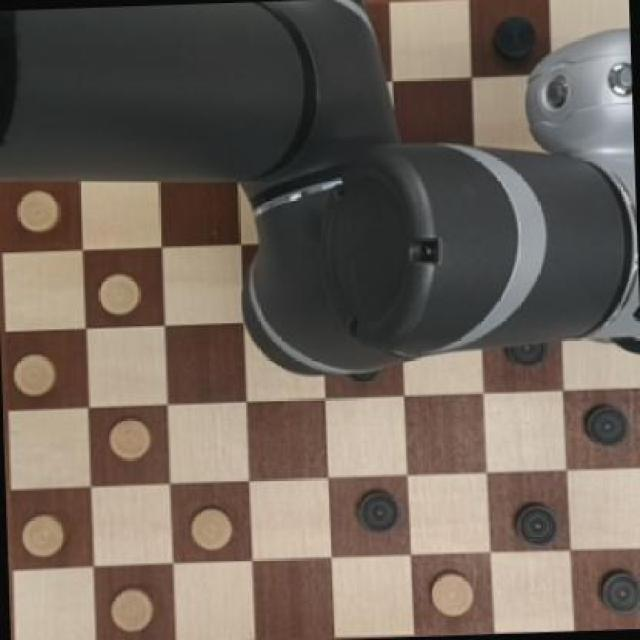black: (340, 480, 408, 544), (579, 399, 634, 460), (590, 558, 640, 618), (483, 8, 538, 61), (511, 492, 558, 550)
white: (104, 578, 164, 634), (16, 510, 70, 564), (92, 270, 150, 320), (187, 497, 237, 554), (5, 348, 60, 398), (101, 413, 152, 466), (432, 565, 475, 620), (13, 189, 62, 234)
